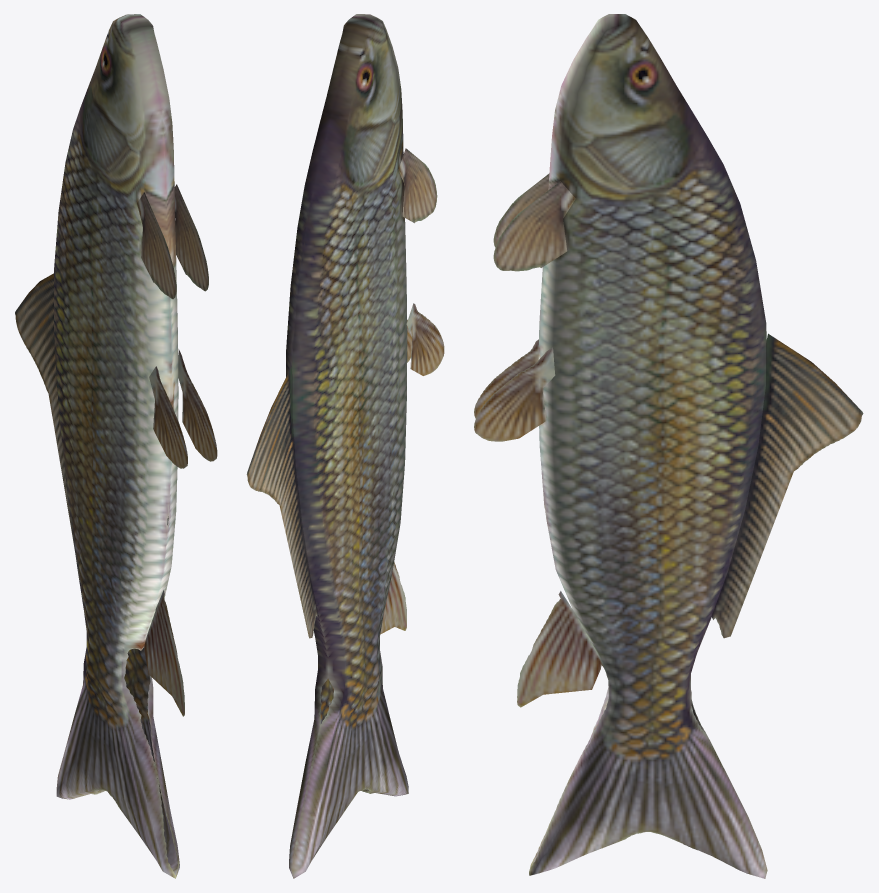
File: fish.obj
The picture shows the model from 3 angles, left to right: view 1: azimuth 30°, elevation 25°; view 2: azimuth 150°, elevation 25°; view 3: azimuth 270°, elevation 25°; orthographic projection. The views are drawn at different scales.
Parts seen in each view (by area): view 1: fish_Cube; view 2: fish_Cube; view 3: fish_Cube.
Boxes of the visible parts, box(x1,y1,x2,y2) form: fish_Cube: box(15, 14, 217, 878); fish_Cube: box(246, 14, 444, 878); fish_Cube: box(474, 14, 863, 878).
Size of the model in its own units: 0.5967 by 12.4 by 5.11.
1 material, 1 textured.
